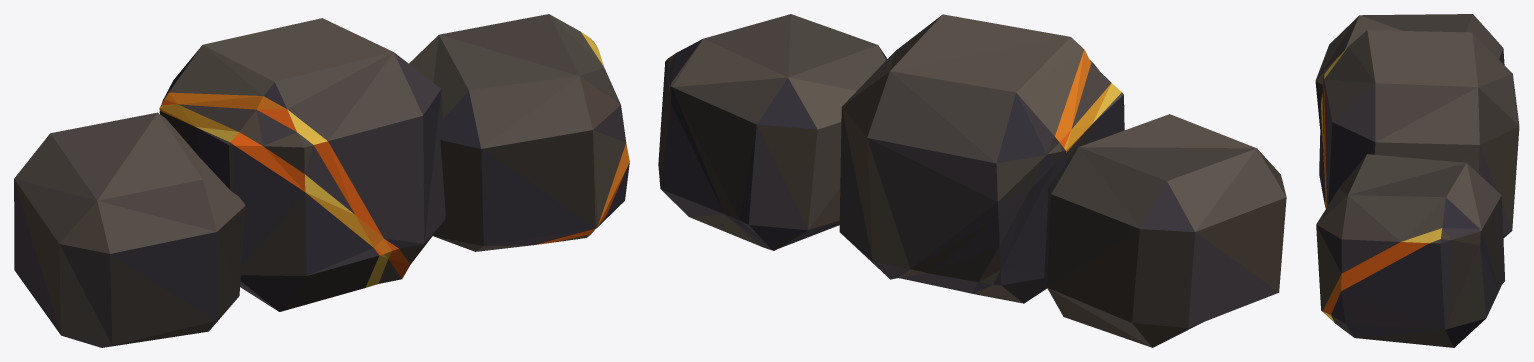
The model's file is mine-lava-rock-2.glb.
3 views of the same model, side by side, from view 1: azimuth 30°, elevation 25°; view 2: azimuth 150°, elevation 25°; view 3: azimuth 270°, elevation 25° (orthographic). The views are drawn at different scales.
Parts seen in each view (by area): view 1: MineLavaRock2; view 2: MineLavaRock2; view 3: MineLavaRock2.
Part boxes in pixels (x1,y1,x2,y2): MineLavaRock2: [14, 14, 629, 347]; MineLavaRock2: [658, 14, 1286, 347]; MineLavaRock2: [1315, 14, 1519, 347].
Bounding box in the file's own units: 3.43 × 1.26 × 1.26.
